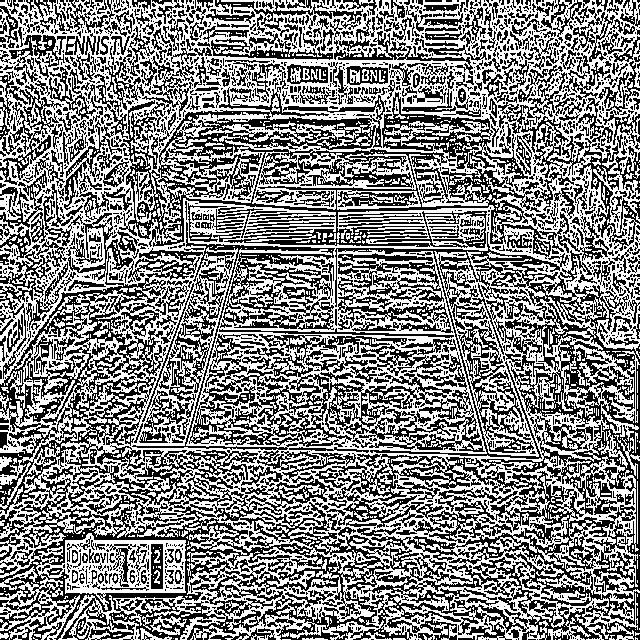left side: (407, 153, 540, 456), (133, 149, 265, 446)
player: (51, 526, 141, 640), (368, 92, 386, 150)
